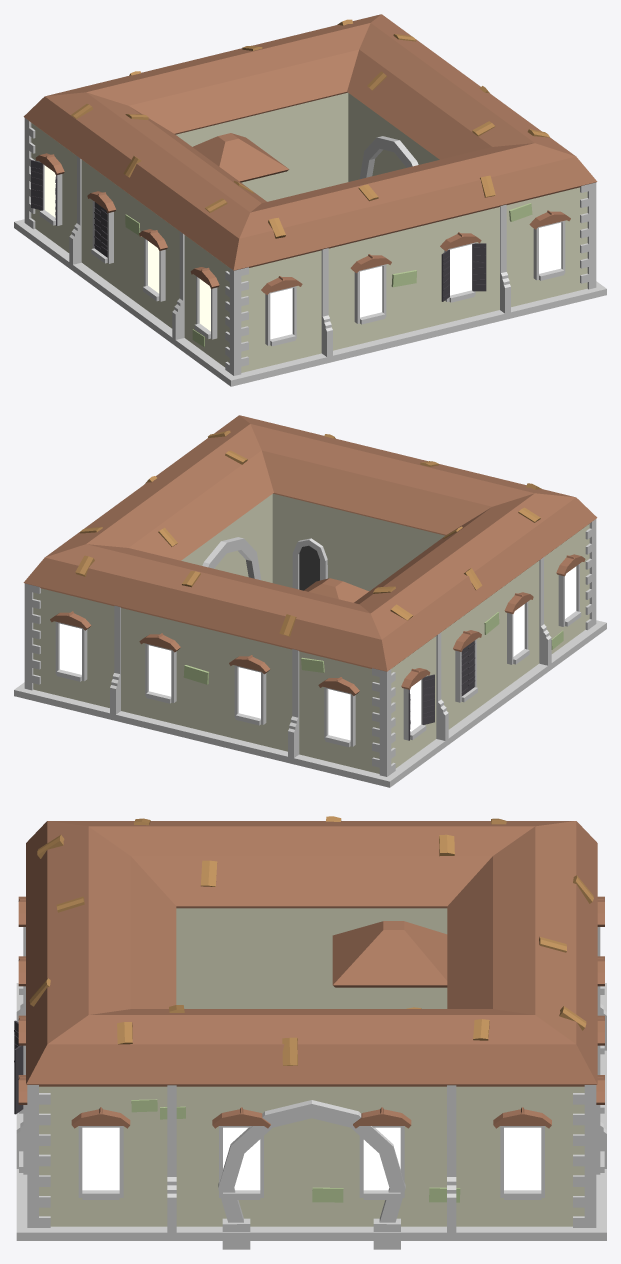
File: Building3_Top.fbx
The picture shows the model from 3 angles, top to bottom: view 1: azimuth 30°, elevation 25°; view 2: azimuth 150°, elevation 25°; view 3: azimuth 270°, elevation 25°; orthographic projection. The views are drawn at different scales.
Visible parts, largest first — view 1: Building3_Top_Arch, Window.016, Foundation_Top, CornerTessellation.003, Foundation_Top.002, Building3_Top_NoArch, RoofTile.004, SmallBrick.004; view 2: Building3_Top_Arch, Window.016, Foundation_Top, CornerTessellation.003, Foundation_Top.002, RoofTile.004, Building3_Top_NoArch, SmallBrick.004; view 3: Building3_Top_Arch, Building3_Top_NoArch, Window.016, Foundation_Top, Window.003, CornerTessellation.003, Foundation_Top.002, RoofTile.004, SmallBrick.003, SmallBrick.004.
Boxes of the visible parts, x1,y1,x2,y2 form: Building3_Top_Arch: [23, 14, 597, 372]; Window.016: [31, 153, 570, 346]; Foundation_Top: [14, 156, 606, 386]; CornerTessellation.003: [24, 118, 596, 375]; Foundation_Top.002: [14, 157, 606, 360]; Building3_Top_NoArch: [348, 94, 439, 181]; RoofTile.004: [71, 19, 549, 238]; SmallBrick.004: [125, 203, 532, 347]; Building3_Top_Arch: [23, 415, 597, 773]; Window.016: [50, 538, 585, 747]; Foundation_Top: [14, 557, 606, 787]; CornerTessellation.003: [24, 519, 596, 776]; Foundation_Top.002: [14, 607, 544, 787]; RoofTile.004: [75, 430, 541, 636]; Building3_Top_NoArch: [182, 495, 272, 581]; SmallBrick.004: [183, 612, 563, 684]; Building3_Top_Arch: [26, 821, 597, 1249]; Building3_Top_NoArch: [39, 1086, 584, 1226]; Window.016: [14, 896, 604, 1199]; Foundation_Top: [16, 983, 606, 1240]; Window.003: [212, 1107, 411, 1199]; CornerTessellation.003: [27, 1085, 596, 1227]; Foundation_Top.002: [16, 984, 606, 1240]; RoofTile.004: [29, 816, 593, 1065]; SmallBrick.003: [131, 1099, 343, 1202]; SmallBrick.004: [160, 1106, 460, 1202].
Bounding box in the file's own units: 1266 × 493 × 1266.
